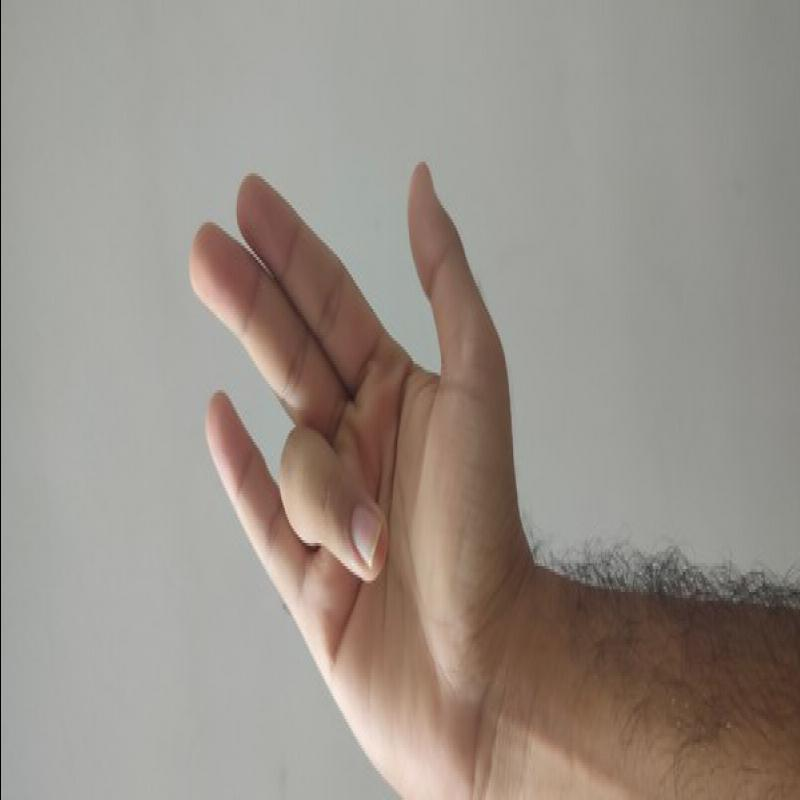Pathaaka: (174, 148, 539, 796)
